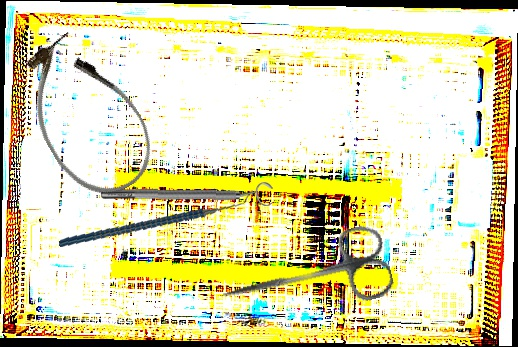Cannula: (3, 21, 169, 212)
Chopper: (58, 166, 254, 270)
Fixation Ring: (100, 179, 274, 209)
Iris Scissors: (214, 221, 397, 335)
